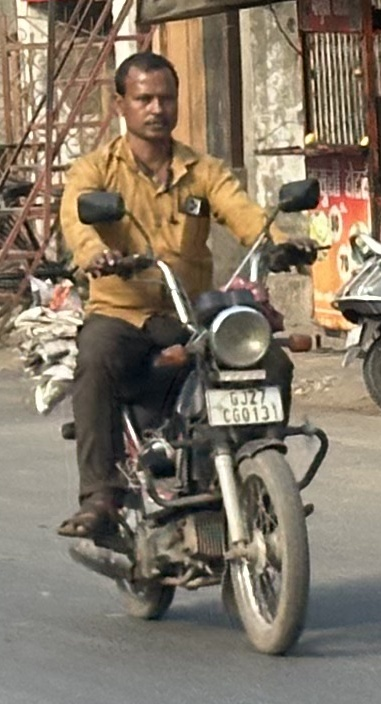BikeWithRider: (16, 43, 340, 663)
NoHelmet: (102, 46, 193, 147)
